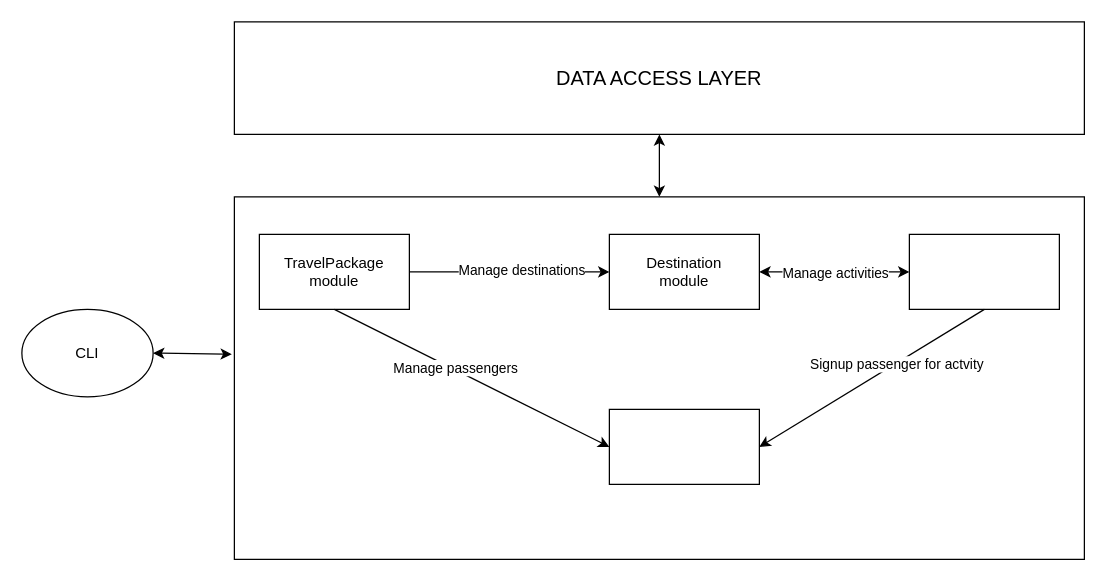
The diagram is 1106 pixels wide and 581 high, and some of its shapes have lost their labels. The shapes that lost their labels are listed below. From the top down, each one's centre as x and y in pixels, then its label:
At (x=983, y=271): "Activity module".
At (x=683, y=446): "Passenger module".
